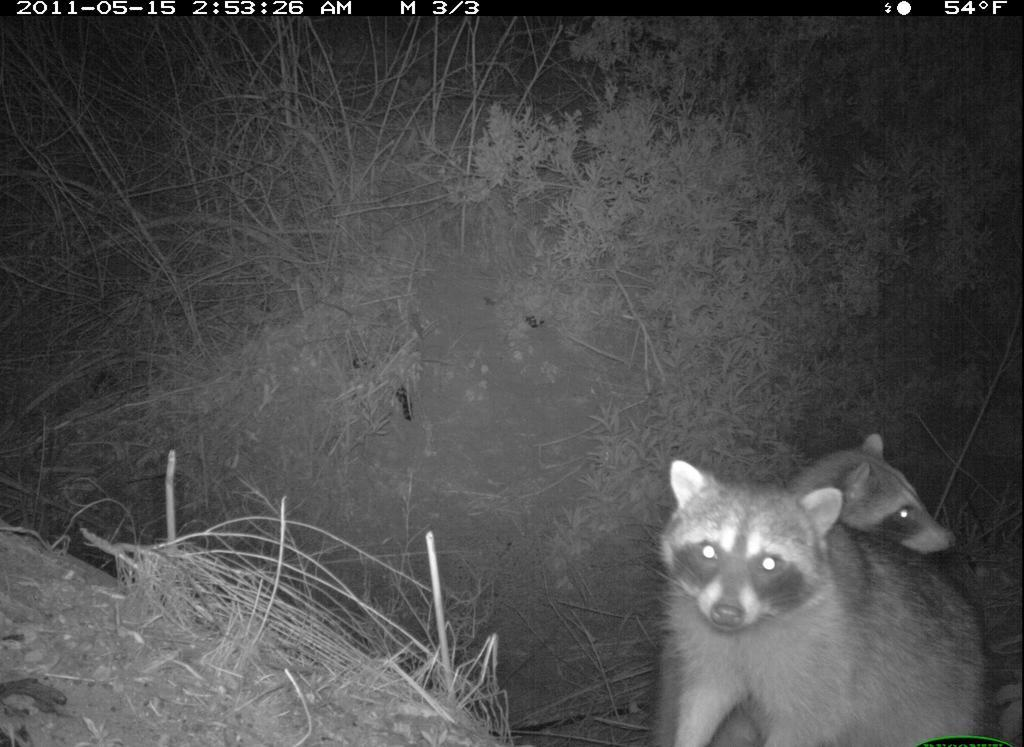raccoon: (652, 454, 987, 745), (781, 427, 959, 571)
